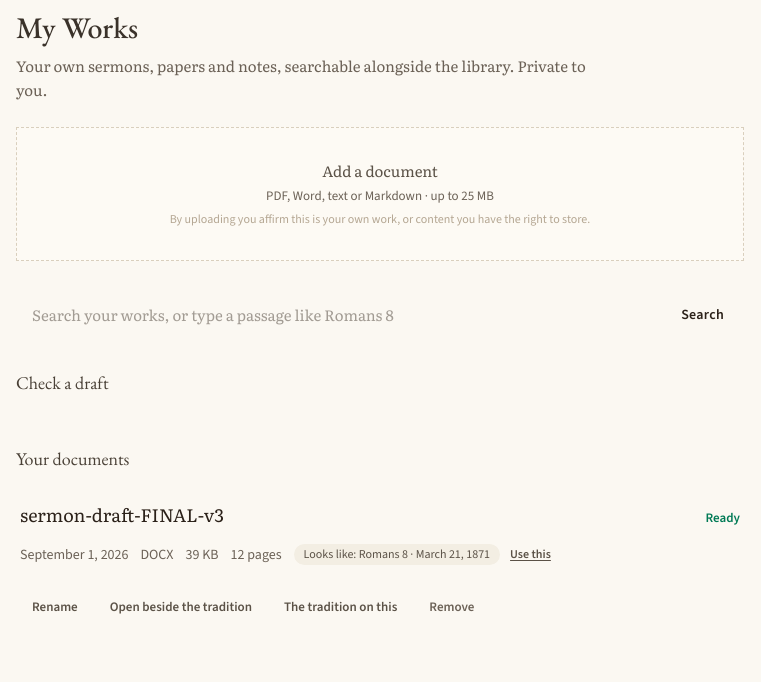
Test: renaming a document in My Works › a failed save says so, keeps what you typed, and leaves the document under its old name
Click the button with aria-label "Rename sermon-draft-FINAL-v3": (55, 607) top-left (20, 585), bottom-right (90, 629)
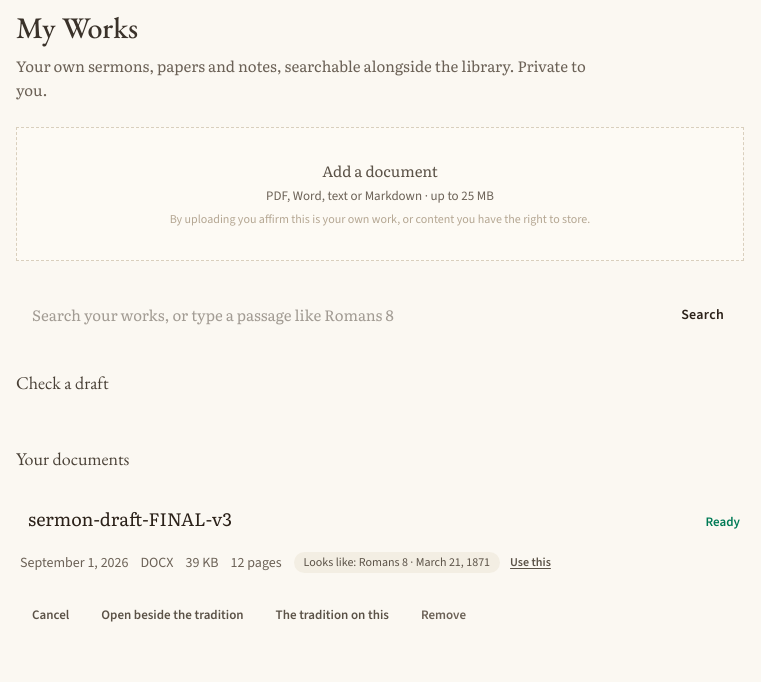
Replace the text in the field named "name for this document" with "a name the server will refuse": (357, 519) top-left (20, 501), bottom-right (694, 537)
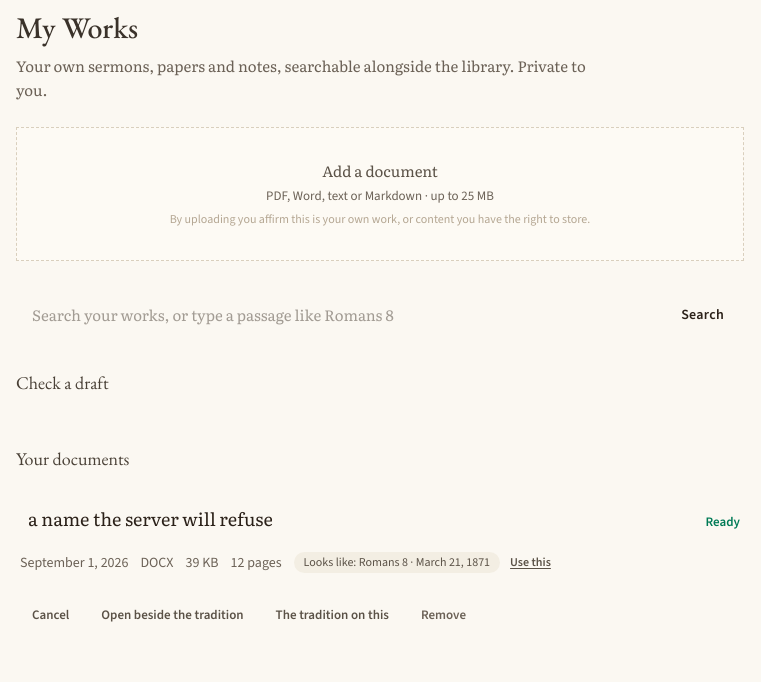
Submit the form named "name for this document", box top-left (20, 501), bottom-right (694, 537)
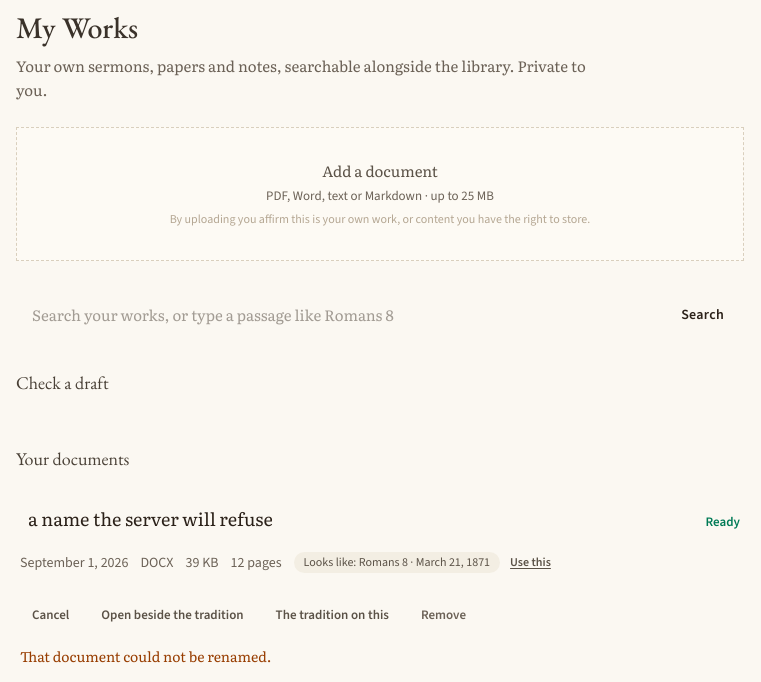
expect the message shows "could not be renamed": met, box top-left (20, 646), bottom-right (272, 666)
Note: And the document is still called what it was called — cancelling shows it unchanged.
Press Escape in the field named "name for this document", box top-left (20, 501), bottom-right (694, 537)
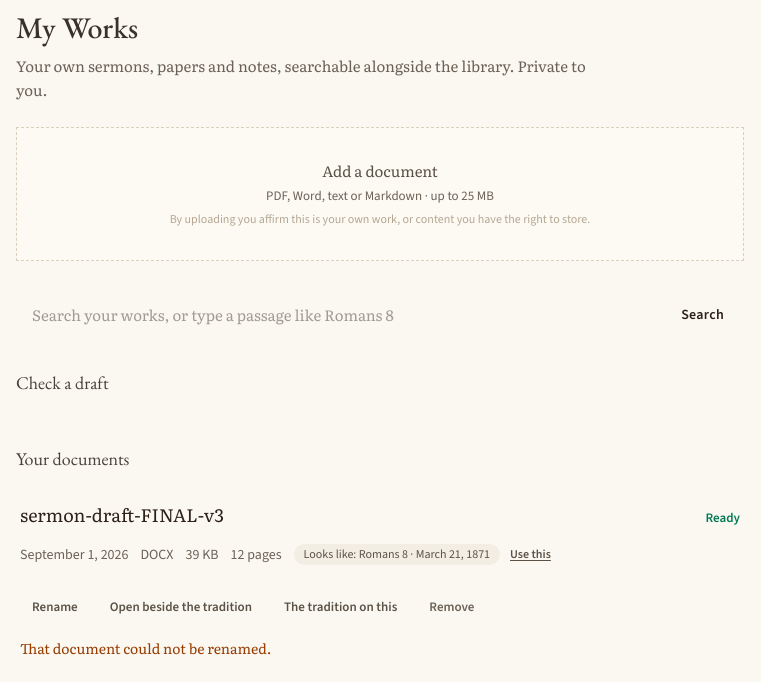
expect the text "sermon-draft-FINAL-v3" is shown: met, box top-left (20, 501), bottom-right (224, 528)
